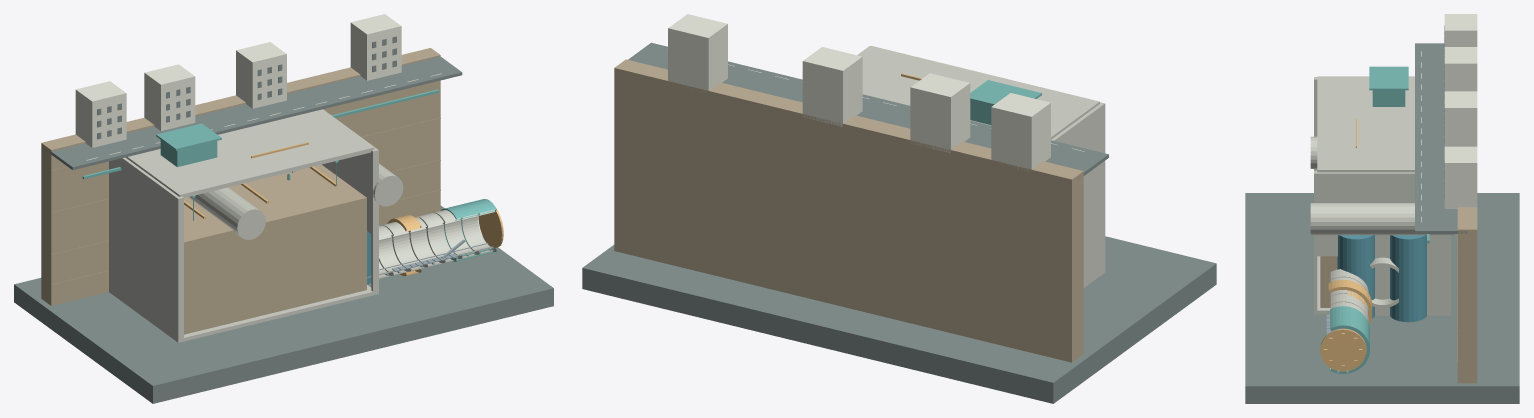
File: world-mrt.glb
3 renders of one model, left to right at view 1: azimuth 30°, elevation 25°; view 2: azimuth 150°, elevation 25°; view 3: azimuth 270°, elevation 25°, orthographic. The views are drawn at different scales.
Visible parts, largest first — view 1: stage-0-excavated-strata-, stage-2-compacted-fill-excavation, stage-0-compacted-fill-ground, stage-1-warm-concrete-wall, stage-0-porcelain-street-detail, stage-0-excavated-strata-street, stage-3-warm-concrete-roof, stage-6-warm-concrete-rings, stage-8-warm-concrete-freeze-existing, stage-8-infrastructure-teal-access, stage-5-warm-concrete-base, stage-1-warm-concrete-panel (+4 smaller); view 2: stage-0-compacted-fill-ground, stage-0-excavated-strata-, stage-0-porcelain-street-detail, stage-0-excavated-strata-street, stage-3-warm-concrete-roof, stage-1-warm-concrete-panel, stage-1-warm-concrete-wall, stage-8-infrastructure-teal-access, stage-8-warm-concrete-closure; view 3: stage-0-excavated-strata-, stage-1-warm-concrete-wall, stage-3-warm-concrete-roof, stage-0-porcelain-street-detail, stage-0-excavated-strata-street, stage-8-water-section-ice, stage-8-warm-concrete-freeze-existing, stage-0-compacted-fill-ground, stage-6-safety-ochre-cutter, stage-8-infrastructure-teal-access, stage-8-warm-concrete-closure, stage-6-infrastructure-teal-tbm (+5 smaller).
Part boxes in pixels (x1,y1,x2,y2): stage-0-excavated-strata-: (14, 205, 553, 403); stage-2-compacted-fill-excavation: (184, 164, 366, 334); stage-0-compacted-fill-ground: (41, 48, 440, 305); stage-1-warm-concrete-wall: (109, 109, 378, 342); stage-0-porcelain-street-detail: (75, 14, 441, 160); stage-0-excavated-strata-street: (46, 36, 462, 169); stage-3-warm-concrete-roof: (125, 109, 374, 197); stage-6-warm-concrete-rings: (379, 209, 495, 278); stage-8-warm-concrete-freeze-existing: (188, 163, 403, 239); stage-8-infrastructure-teal-access: (156, 123, 290, 180); stage-5-warm-concrete-base: (181, 285, 375, 341); stage-1-warm-concrete-panel: (155, 182, 174, 333); stage-0-compacted-fill-ground: (614, 59, 1083, 362); stage-0-excavated-strata-: (582, 236, 1216, 403); stage-0-porcelain-street-detail: (667, 14, 1084, 171); stage-0-excavated-strata-street: (628, 42, 1108, 179); stage-3-warm-concrete-roof: (858, 46, 1099, 139); stage-1-warm-concrete-panel: (1075, 108, 1097, 287); stage-1-warm-concrete-wall: (857, 46, 1105, 277); stage-8-infrastructure-teal-access: (970, 80, 1041, 124); stage-8-warm-concrete-closure: (873, 76, 918, 105); stage-0-excavated-strata-: (1245, 193, 1519, 403); stage-1-warm-concrete-wall: (1314, 77, 1450, 315); stage-3-warm-concrete-roof: (1317, 76, 1414, 172); stage-0-porcelain-street-detail: (1421, 14, 1477, 222); stage-0-excavated-strata-street: (1415, 25, 1467, 233); stage-8-water-section-ice: (1337, 235, 1426, 322); stage-8-warm-concrete-freeze-existing: (1310, 136, 1454, 235); stage-0-compacted-fill-ground: (1457, 207, 1477, 383); stage-6-safety-ochre-cutter: (1320, 329, 1366, 371); stage-8-infrastructure-teal-access: (1369, 66, 1408, 106); stage-8-warm-concrete-closure: (1357, 120, 1408, 147); stage-6-infrastructure-teal-tbm: (1330, 306, 1369, 373).
Bounding box in the file's own units: 70 × 36.5 × 42.
